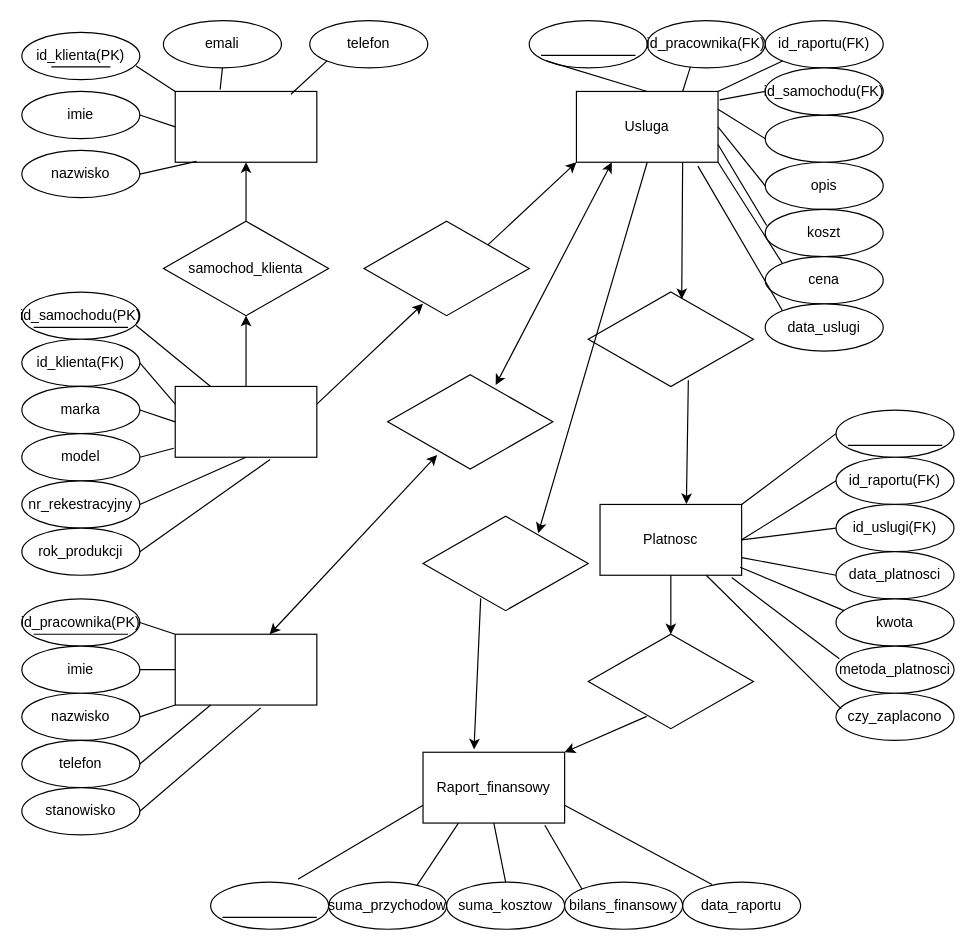
Some shapes in this 975 by 950 pixel diagram are drawn without their labels. Each missing label, with the box of its shape:
id_platnosci(PK): (835, 409, 954, 457)
id_raportu(PK): (209, 881, 329, 929)
id_uslugi(PK): (528, 19, 647, 68)
Klient: (174, 90, 317, 162)
koszty_uslug: (422, 515, 588, 611)
platnosc_za_usluge: (587, 291, 753, 386)
Pracownik: (174, 633, 317, 705)
przychod_z_platnosci: (587, 633, 753, 729)
przydzielenie_pracownika: (386, 373, 553, 469)
rodzaj_uslugi: (764, 114, 883, 162)
Samochod: (174, 385, 317, 457)
usluga_samochodowa: (363, 220, 529, 316)
